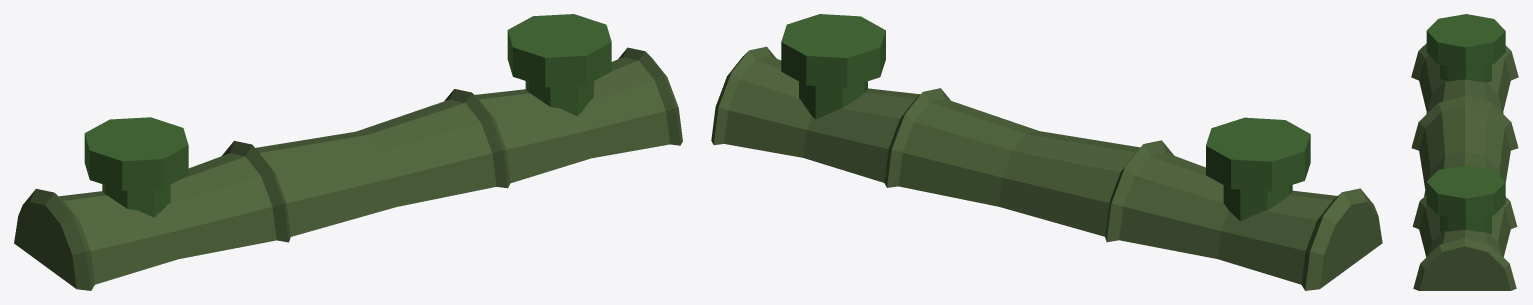
Rendered from attache bamboo.fbx.
3 renders of one model, left to right at view 1: azimuth 30°, elevation 25°; view 2: azimuth 150°, elevation 25°; view 3: azimuth 270°, elevation 25°, orthographic. The views are drawn at different scales.
Parts seen in each view (by area): view 1: bambou, vise en bois, vise en bois 2; view 2: bambou, vise en bois, vise en bois 2; view 3: bambou, vise en bois 2, vise en bois.
Boxes of the visible parts, x1,y1,x2,y2 form: bambou: (14,47,682,290); vise en bois: (507,14,611,116); vise en bois 2: (84,117,188,217); bambou: (711,46,1382,290); vise en bois: (781,14,885,119); vise en bois 2: (1206,117,1310,221); bambou: (1411,43,1518,290); vise en bois 2: (1426,14,1505,82); vise en bois: (1426,165,1505,234).
Size of the model in its own units: 441 by 72.35 by 92.49.
